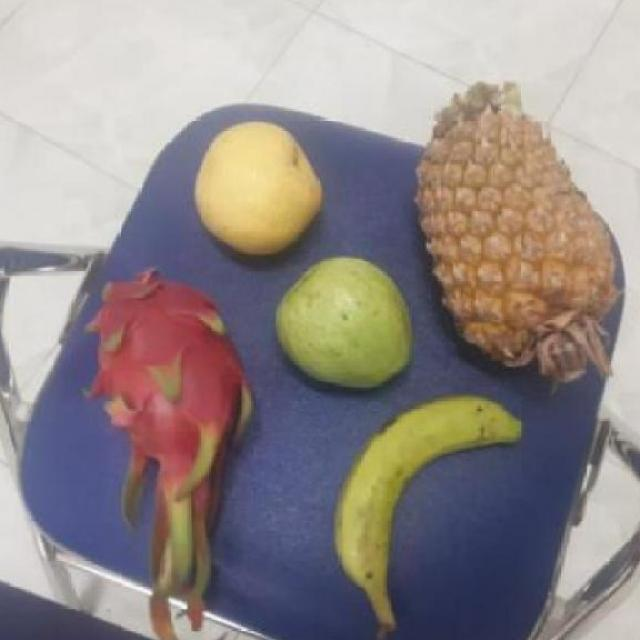banana: (328, 396, 519, 596)
dragon fruit: (78, 270, 246, 492)
guava: (268, 259, 409, 385)
pear: (188, 123, 326, 257)
pineapple: (414, 99, 614, 381)
